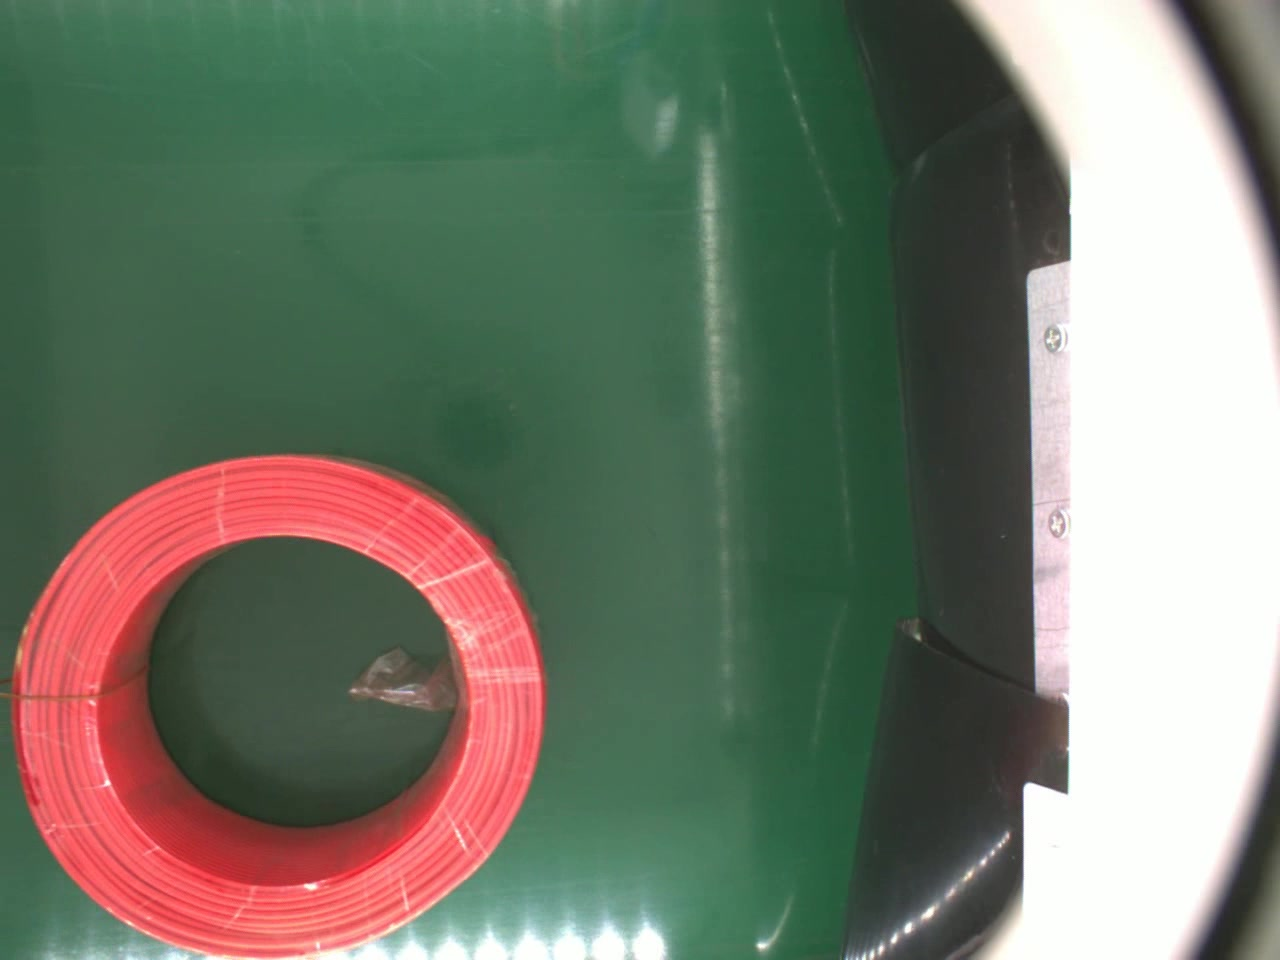red: (10, 449, 551, 954)
